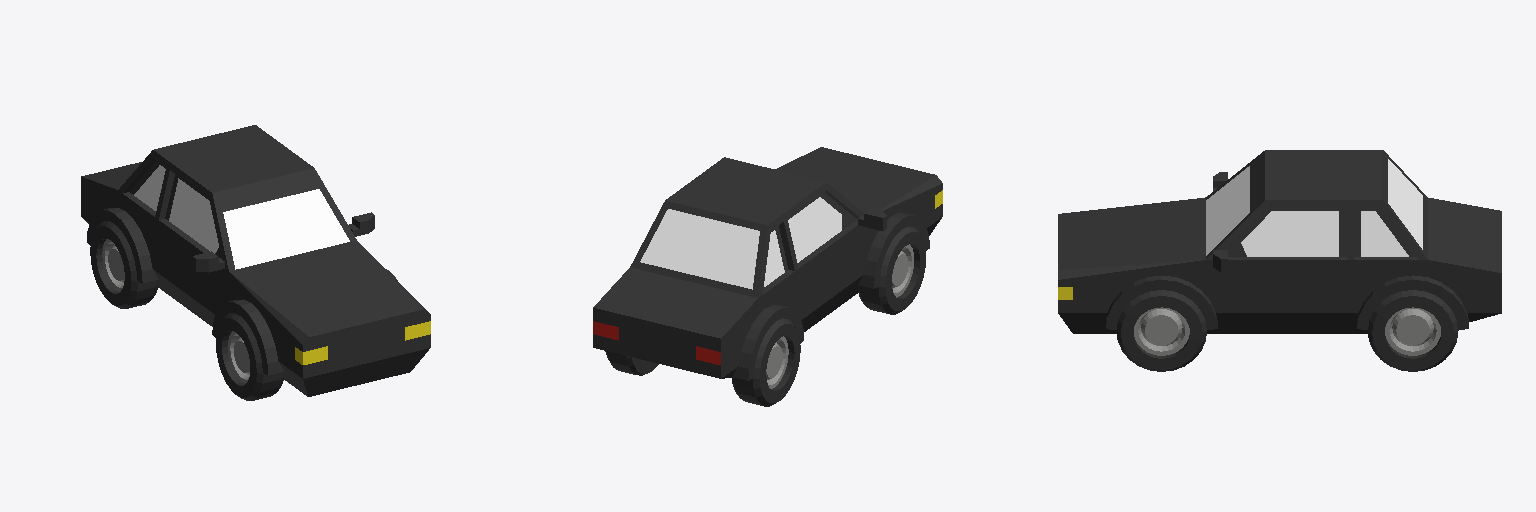
The model's file is car_long_black.obj.
The picture shows the model from 3 angles: view 1: azimuth 30°, elevation 25°; view 2: azimuth 150°, elevation 25°; view 3: azimuth 270°, elevation 25°; orthographic projection.
Parts seen in each view (by area): view 1: mergedBlocks; view 2: mergedBlocks; view 3: mergedBlocks.
Boxes of the visible parts, x1,y1,x2,y2 form: mergedBlocks: [81, 125, 430, 400]; mergedBlocks: [593, 147, 942, 406]; mergedBlocks: [1058, 150, 1501, 371].
Size of the model in its own units: 1.4 by 1.21 by 3.